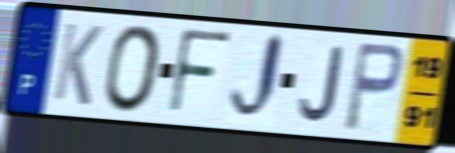F: (165, 26, 234, 119)
J: (226, 30, 287, 127), (297, 44, 345, 125)
K: (50, 19, 105, 109)
O: (103, 22, 165, 115)
P: (341, 39, 405, 135)
